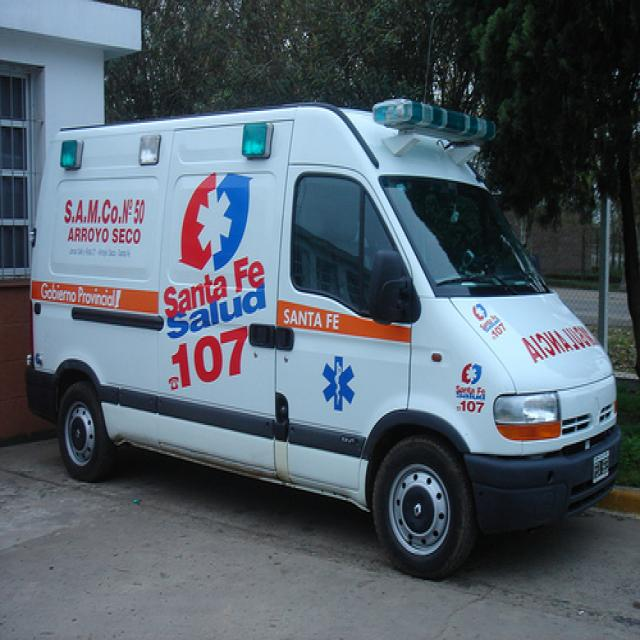emergency-vehicle: (28, 99, 622, 577)
